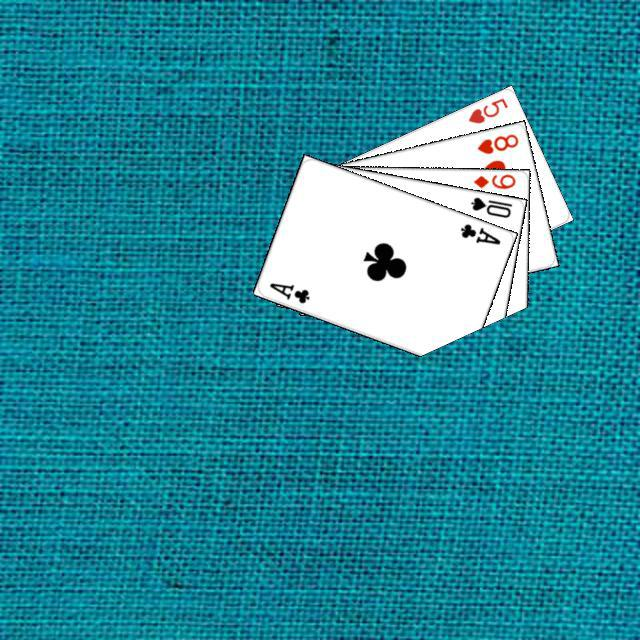10s: (466, 192, 514, 219)
5h: (463, 93, 510, 125)
8h: (472, 129, 520, 156)
9d: (469, 170, 517, 190)
Ac: (455, 219, 502, 247), (265, 278, 311, 305)
